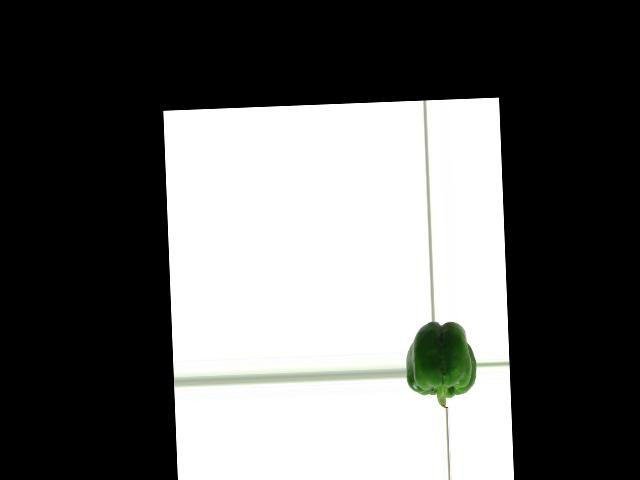bell_pepper: (405, 319, 477, 408)
